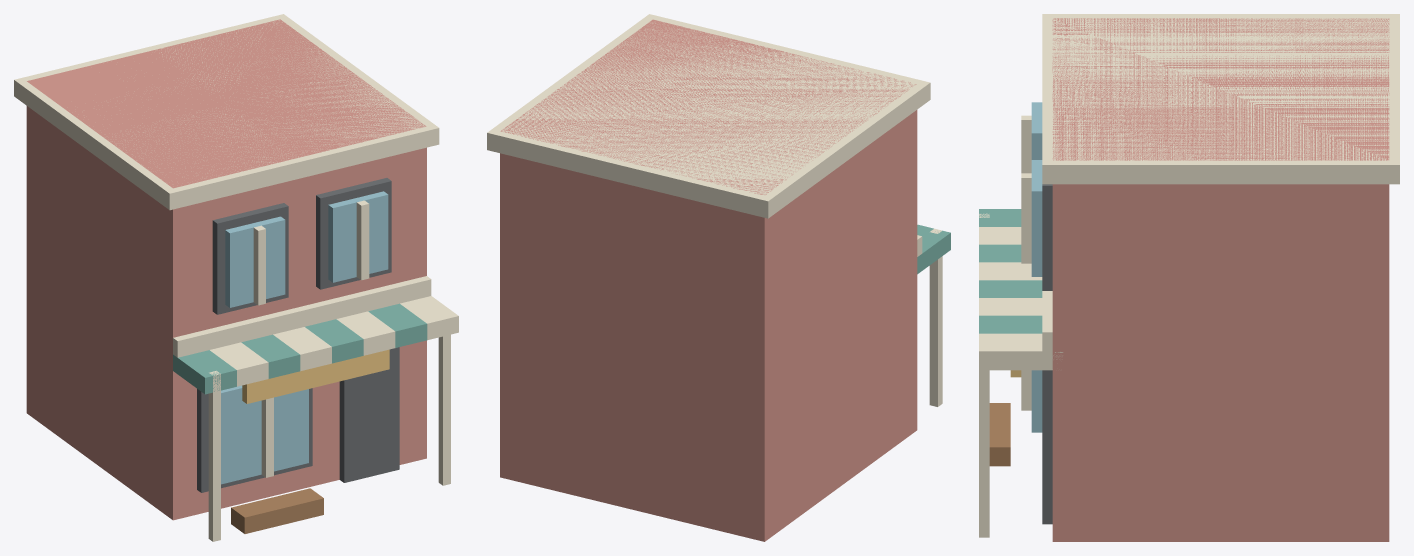
File: pocket-borough-corner-bakery__276.glb
The picture shows the model from 3 angles, left to right: view 1: azimuth 30°, elevation 25°; view 2: azimuth 150°, elevation 25°; view 3: azimuth 270°, elevation 25°; orthographic projection. The views are drawn at different scales.
Parts seen in each view (by area): view 1: pocket-borough-corner-bakery; view 2: pocket-borough-corner-bakery; view 3: pocket-borough-corner-bakery.
Part boxes in pixels (box(x1,y1,x2,y2)): pocket-borough-corner-bakery: box(14, 14, 458, 541); pocket-borough-corner-bakery: box(487, 14, 950, 541); pocket-borough-corner-bakery: box(979, 14, 1399, 541).
Bounding box in the file's own units: 4.25 × 5 × 5.
